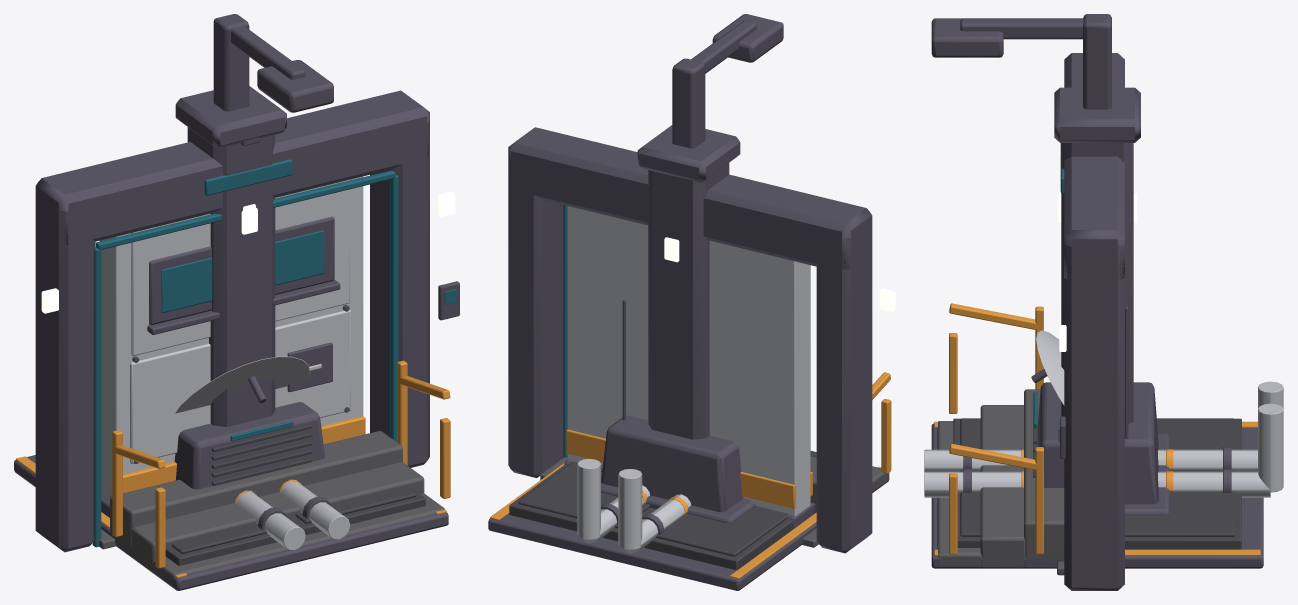
The model's file is HabKit.fbx.
3 views of the same model, side by side, from view 1: azimuth 30°, elevation 25°; view 2: azimuth 150°, elevation 25°; view 3: azimuth 270°, elevation 25° (orthographic). The views are drawn at different scales.
Visible parts, largest first — view 1: DoorFrame, WallPanel, DoorSteps, Pillar, WallWindow, RoofVent, Lamp, Grate, RoofTile, RoofPipes, RoofDish; view 2: DoorFrame, WallPanel, Pillar, RoofVent, RoofTile, Grate, RoofPipes, Lamp, DoorSteps; view 3: DoorFrame, DoorSteps, RoofTile, RoofPipes, Pillar, Lamp, RoofVent, Grate, RoofDish.
Part boxes in pixels (box(x1,y1,x2,y2)): DoorFrame: box(35, 90, 459, 552); WallPanel: box(99, 176, 365, 517); DoorSteps: box(110, 360, 450, 587); Pillar: box(175, 86, 286, 426); WallWindow: box(147, 216, 340, 334); RoofVent: box(174, 402, 324, 489); Lamp: box(213, 14, 333, 112); Grate: box(14, 455, 448, 590); RoofTile: box(165, 486, 425, 565); RoofPipes: box(234, 479, 350, 550); RoofDish: box(175, 356, 310, 413); DoorFrame: box(508, 127, 895, 553); WallPanel: box(564, 206, 813, 528); Pillar: box(637, 125, 740, 439); RoofVent: box(601, 415, 755, 523); RoofTile: box(509, 451, 816, 570); Grate: box(488, 462, 889, 590); RoofPipes: box(577, 458, 691, 553); Lamp: box(672, 14, 783, 148); DoorSteps: box(810, 372, 891, 512); DoorFrame: box(1057, 53, 1124, 590); DoorSteps: box(937, 303, 1064, 568); RoofTile: box(953, 418, 1241, 549); RoofPipes: box(924, 381, 1283, 497); Pillar: box(1054, 87, 1140, 423); Lamp: box(931, 14, 1111, 109); RoofVent: box(1033, 382, 1169, 515); Grate: box(931, 421, 1263, 568); RoofDish: box(1031, 307, 1128, 439).
Size of the model in its own units: 3.36 by 3.7 by 2.49.
